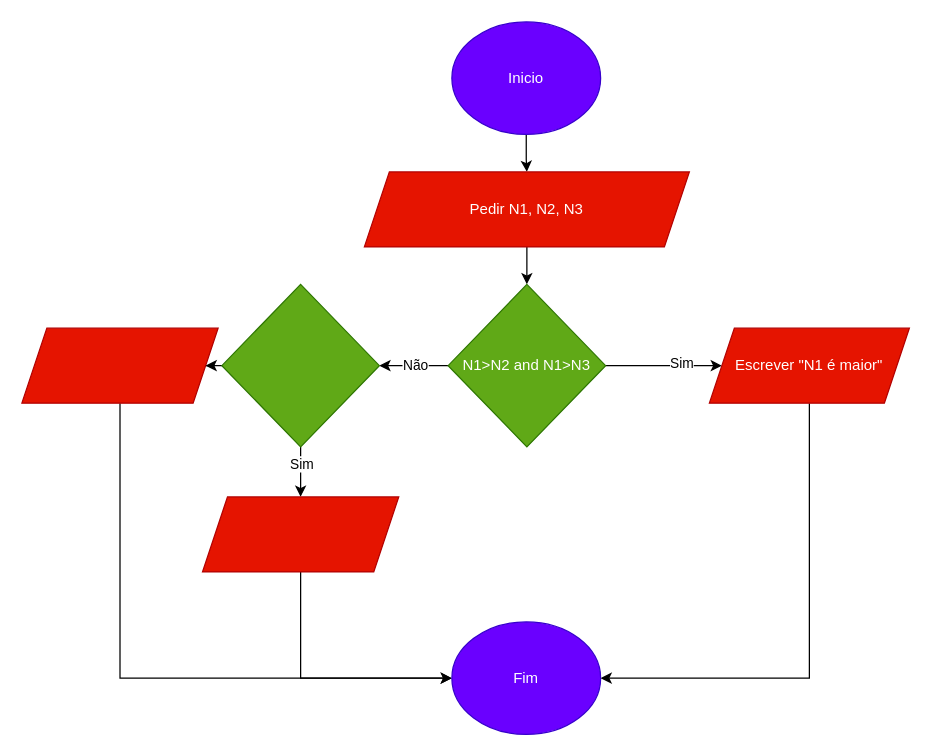
The diagram is 931 pixels wide and 756 high, and some of its shapes have lost their labels. Each missing label, with the centre of its shape:
Escrever "N2 é maior": point 300,534
Escrever "N3 é maior": point 119,365
N2>N3: point 300,365
